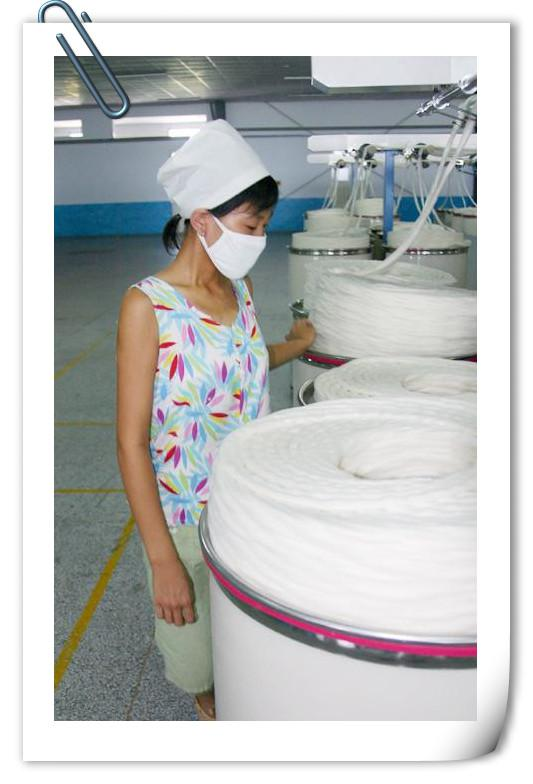OK: (201, 203, 275, 277)
